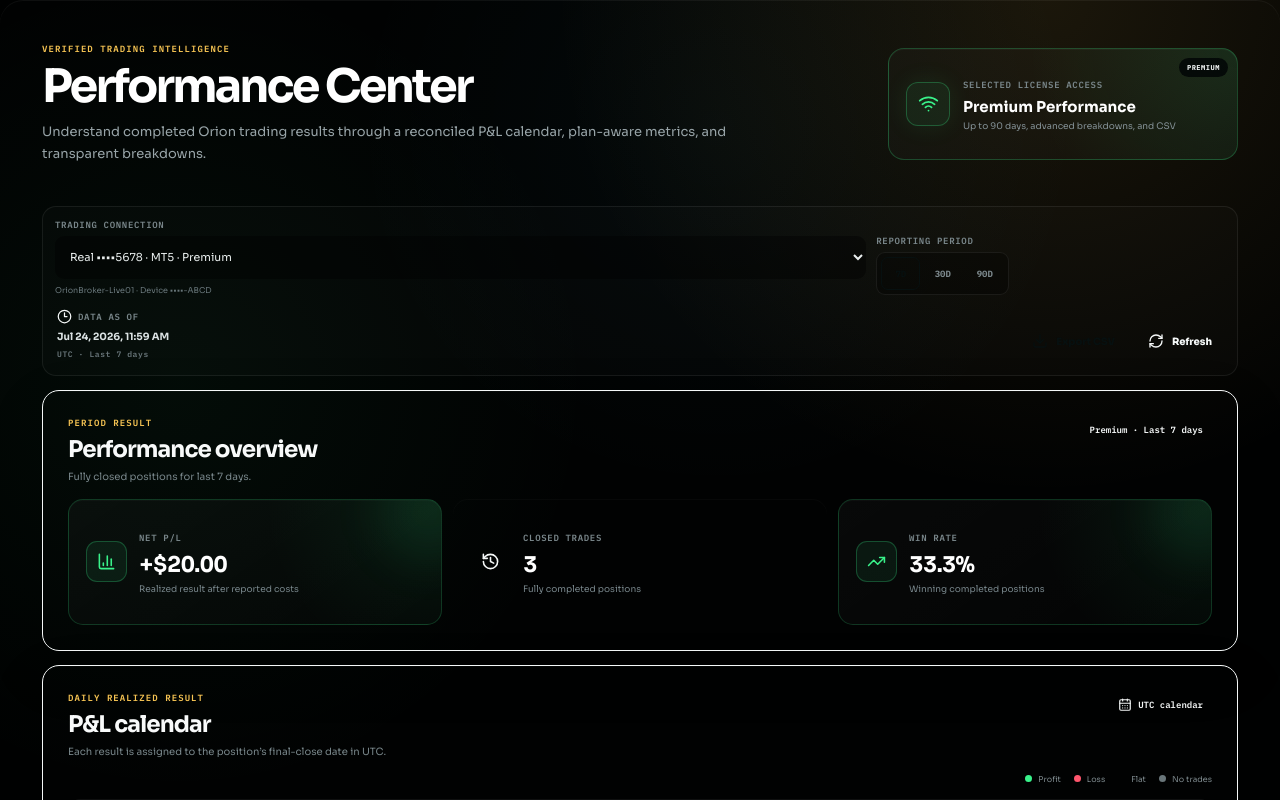
Test case: client Performance Center request lifecycle › aborts an in-flight refresh on selection and ignores its stale response
Click the button with aria-label "Refresh Performance Center": (1180, 341) [1135,320,1225,363]
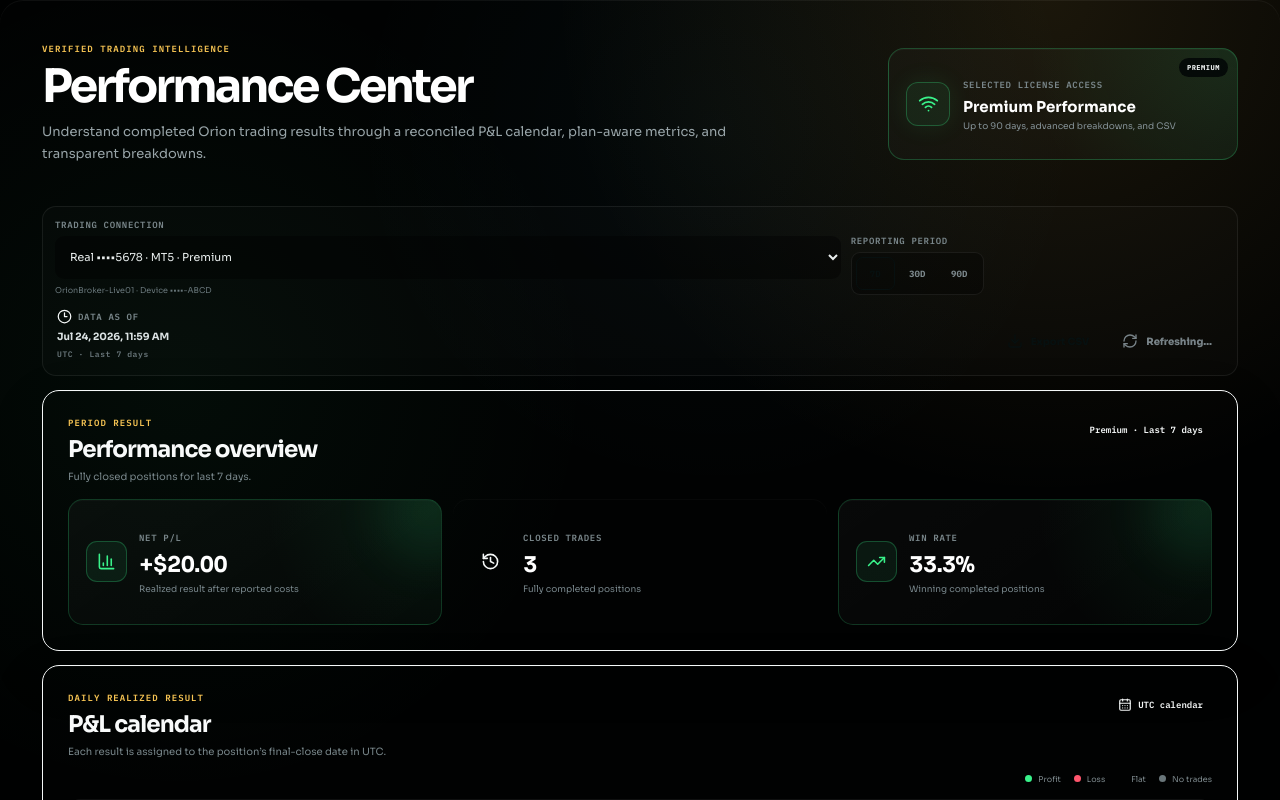
Select "Real ••••4321 · MT5 · Premium" in the dropdown labelled "Trading connection OrionBroker-Live01 · Device ••••-ABCD": (448, 257) [55,236,841,279]
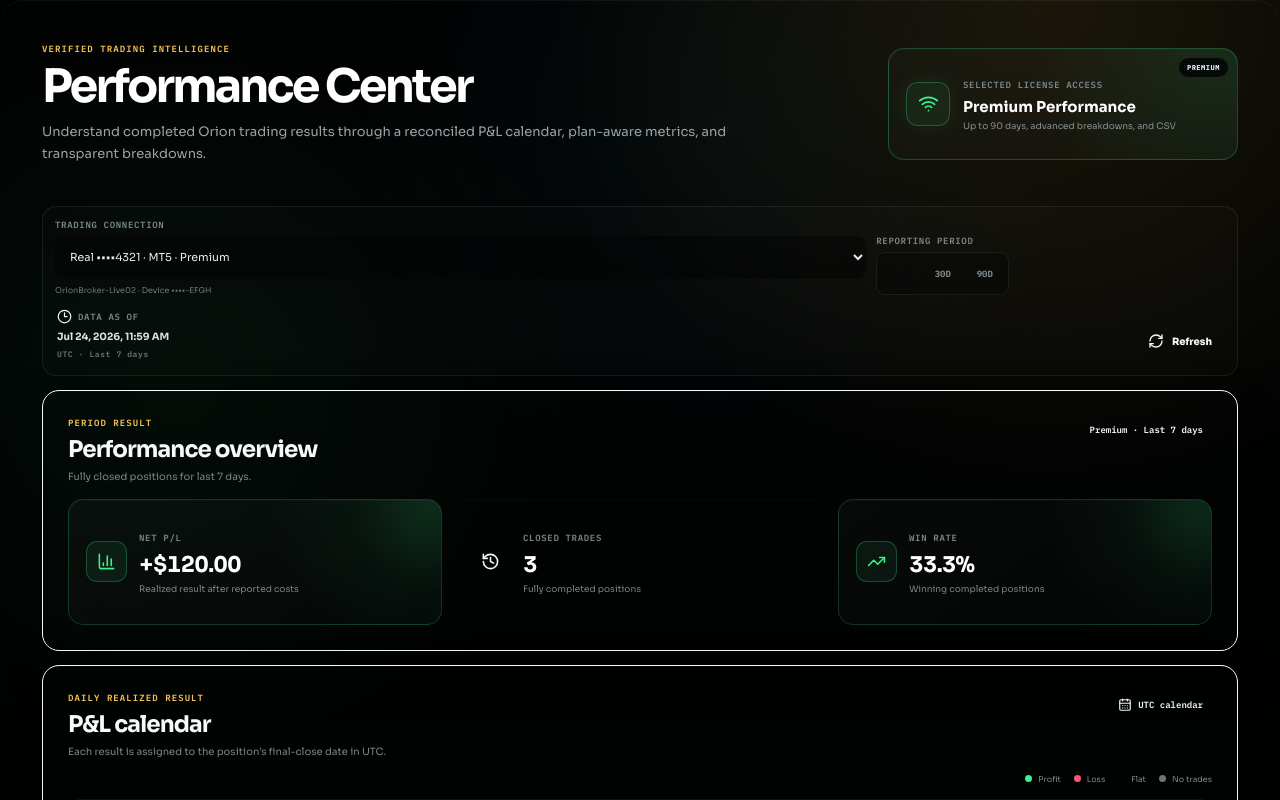
Expected: the text "+$120.00" is shown, [139,551,241,578]
Expected: the dropdown labelled "Trading connection OrionBroker-Live02 · Device ••••-EFGH" shows "Real ••••4321 · MT5 · Premium", [55,236,866,279]
